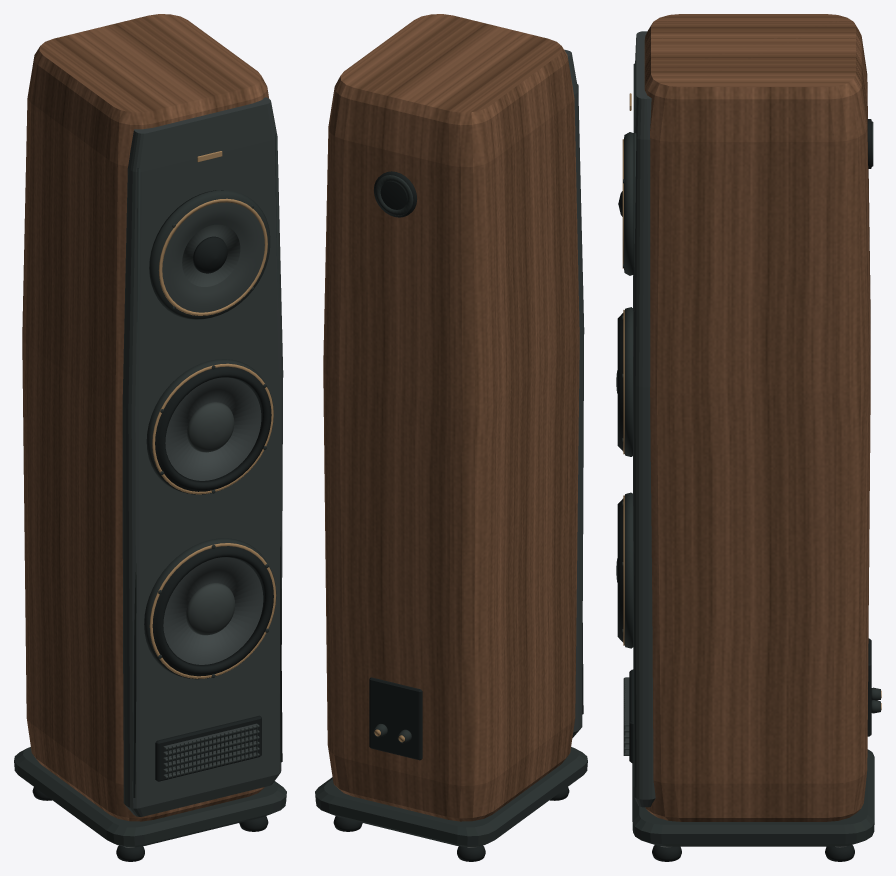
The model's file is cinema-speaker.glb.
The picture shows the model from 3 angles, left to right: view 1: azimuth 30°, elevation 25°; view 2: azimuth 150°, elevation 25°; view 3: azimuth 270°, elevation 25°; orthographic projection. The views are drawn at different scales.
Parts seen in each view (by area): view 1: L01_CINEMA_SPEAKER_01; view 2: L01_CINEMA_SPEAKER_01; view 3: L01_CINEMA_SPEAKER_01.
Boxes of the visible parts, box(x1,y1,x2,y2) form: L01_CINEMA_SPEAKER_01: box(14, 14, 286, 861); L01_CINEMA_SPEAKER_01: box(315, 14, 587, 861); L01_CINEMA_SPEAKER_01: box(616, 14, 881, 861).
Bounding box in the file's own units: 0.279 × 1.13 × 0.35.
7 materials, 1 textured.
